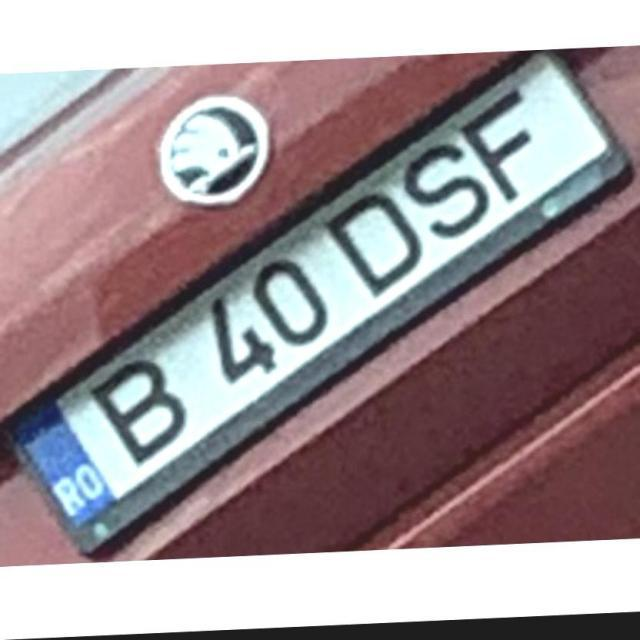license-plates: (10, 55, 627, 553)
